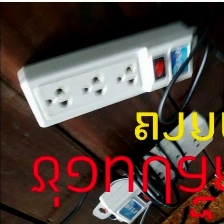three_eye_plug: (10, 14, 198, 131), (89, 107, 217, 224)
